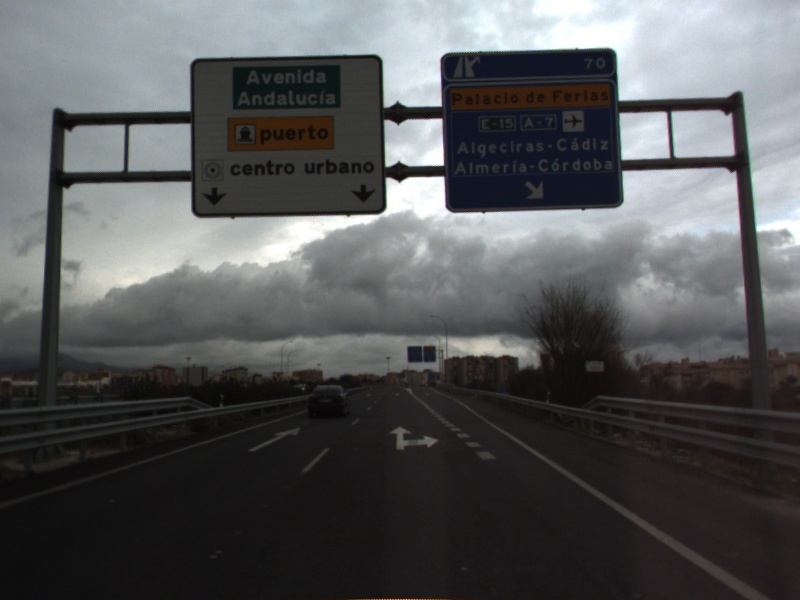STRAIGHT: (245, 425, 303, 454)
STRAIGHT_RIGHT: (387, 424, 441, 452)
